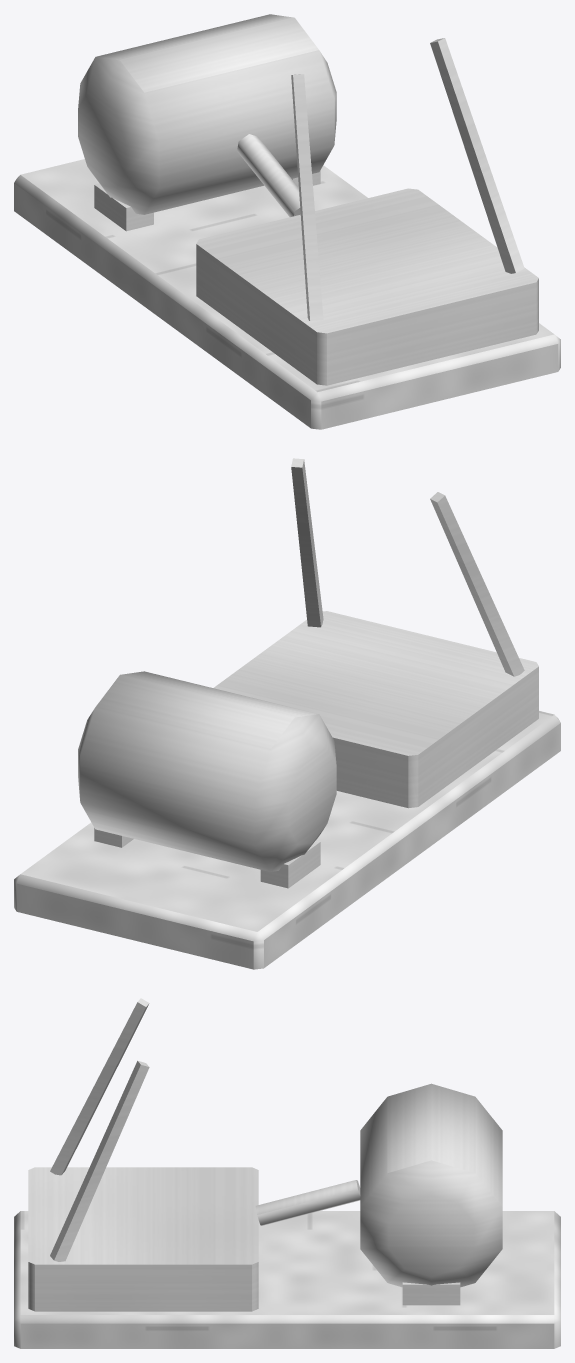
Rendered from pod_launcher.obj.
3 renders of one model, top to bottom at view 1: azimuth 30°, elevation 25°; view 2: azimuth 150°, elevation 25°; view 3: azimuth 270°, elevation 25°, orthographic. The views are drawn at different scales.
Visible parts, largest first — view 1: pod_support_plate, retained_5, launcher_foundation, retained_92, retained_82, retained_102, retained_67; view 2: launcher_foundation, retained_5, pod_support_plate, retained_82, retained_92, retained_67; view 3: launcher_foundation, pod_support_plate, retained_5, retained_92, retained_82, retained_102, retained_72.
Boxes of the visible parts, left/top/right/bottom form: pod_support_plate: left=196, top=188, right=538, bottom=385; retained_5: left=78, top=14, right=336, bottom=214; launcher_foundation: left=14, top=159, right=560, bottom=429; retained_92: left=430, top=38, right=524, bottom=273; retained_82: left=291, top=74, right=323, bottom=320; retained_102: left=237, top=134, right=300, bottom=217; retained_67: left=94, top=183, right=153, bottom=231; launcher_foundation: left=14, top=711, right=560, bottom=969; retained_5: left=78, top=671, right=336, bottom=871; pod_support_plate: left=213, top=611, right=538, bottom=808; retained_82: left=430, top=492, right=524, bottom=676; retained_92: left=291, top=458, right=323, bottom=627; retained_67: left=260, top=840, right=320, bottom=888; launcher_foundation: left=14, top=1211, right=560, bottom=1348; pod_support_plate: left=28, top=1167, right=258, bottom=1311; retained_5: left=360, top=1083, right=502, bottom=1287; retained_92: left=50, top=1060, right=149, bottom=1261; retained_82: left=50, top=998, right=149, bottom=1175; retained_102: left=255, top=1180, right=360, bottom=1225; retained_72: left=402, top=1282, right=460, bottom=1305.
Size of the model in its own units: 0.9 by 1.01 by 1.9.
